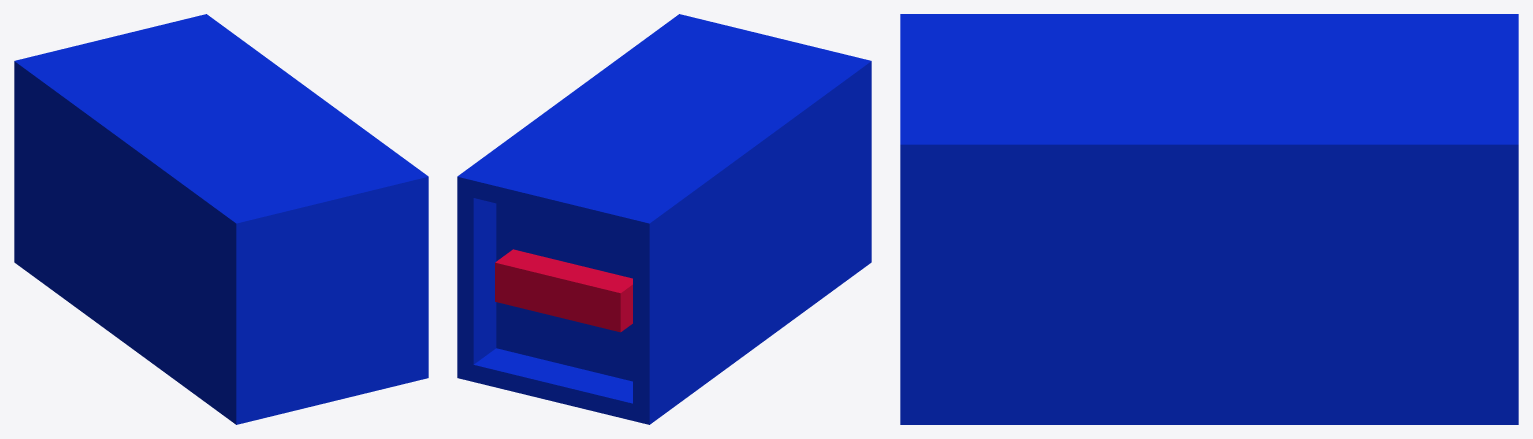
The model's file is lvl3_groundMiddle.fbx.
The picture shows the model from 3 angles, left to right: view 1: azimuth 30°, elevation 25°; view 2: azimuth 150°, elevation 25°; view 3: azimuth 270°, elevation 25°; orthographic projection. The views are drawn at different scales.
Visible parts, largest first — view 1: polySurface5; view 2: polySurface5; view 3: polySurface5.
Part boxes in pixels (box(x1,y1,x2,y2)): polySurface5: box(14, 14, 428, 424); polySurface5: box(457, 14, 871, 424); polySurface5: box(900, 14, 1518, 424).
Bounding box in the file's own units: 100 × 100 × 200.
